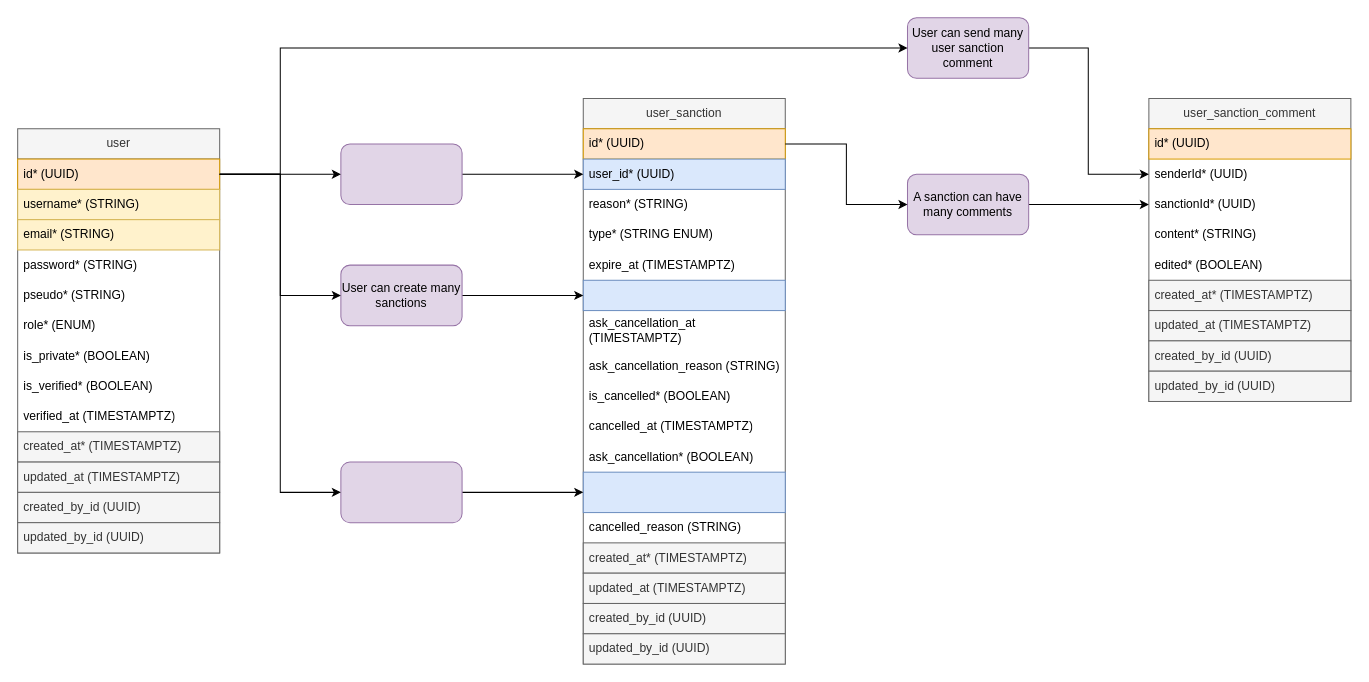
The diagram is 1369 pixels wide and 682 high, and some of its shapes have lost their labels. Here are the shapes that lost their labels. From the top down, the centre of each, then its label:
the point at 401,174: User can have many sanctions
the point at 683,295: by_user_id (UUID)
the point at 401,492: User can cancel many sanctions
the point at 683,492: cancelled_by_user_id (UUID)
